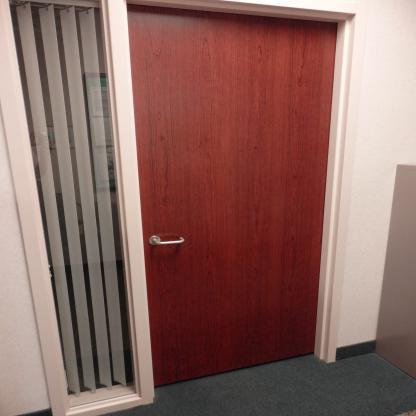door: (141, 18, 322, 355)
lever: (149, 236, 191, 246)
